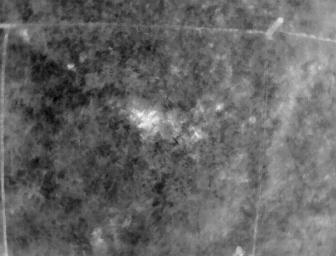landmine: (133, 111, 161, 133)
